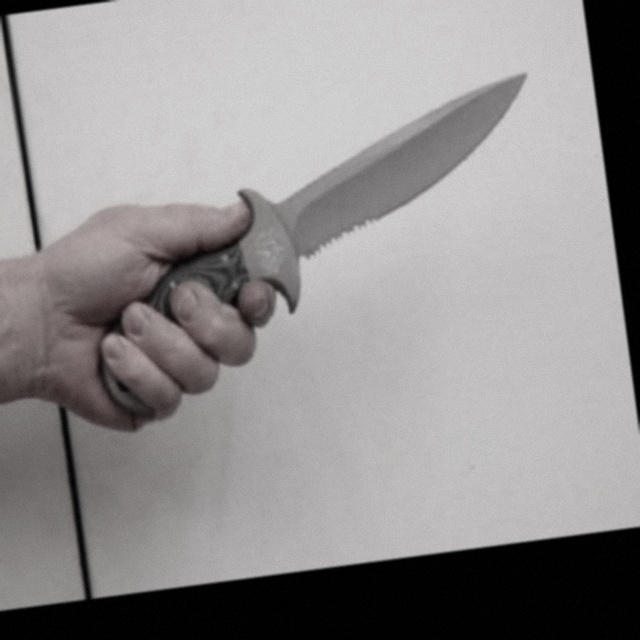Sharp-Object: (69, 72, 563, 418)
